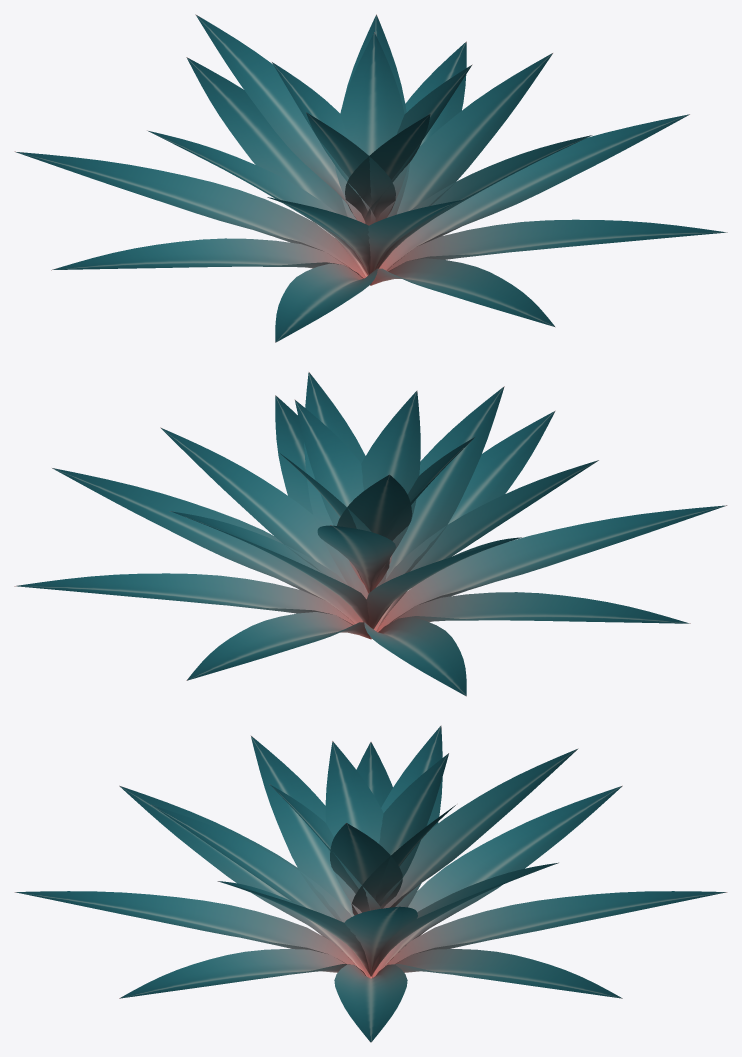
Rendered from Agave.glb.
3 renders of one model, top to bottom at view 1: azimuth 30°, elevation 25°; view 2: azimuth 150°, elevation 25°; view 3: azimuth 270°, elevation 25°, orthographic. The views are drawn at different scales.
Parts seen in each view (by area): view 1: Planta_16_Agave_Azul; view 2: Planta_16_Agave_Azul; view 3: Planta_16_Agave_Azul.
Part boxes in pixels (x1,y1,x2,y2): Planta_16_Agave_Azul: (14,14,727,342); Planta_16_Agave_Azul: (14,372,727,696); Planta_16_Agave_Azul: (14,725,727,1042).
Size of the model in its own units: 3.31 by 1.04 by 3.31.
Materials: 1 (1 with a texture image).
